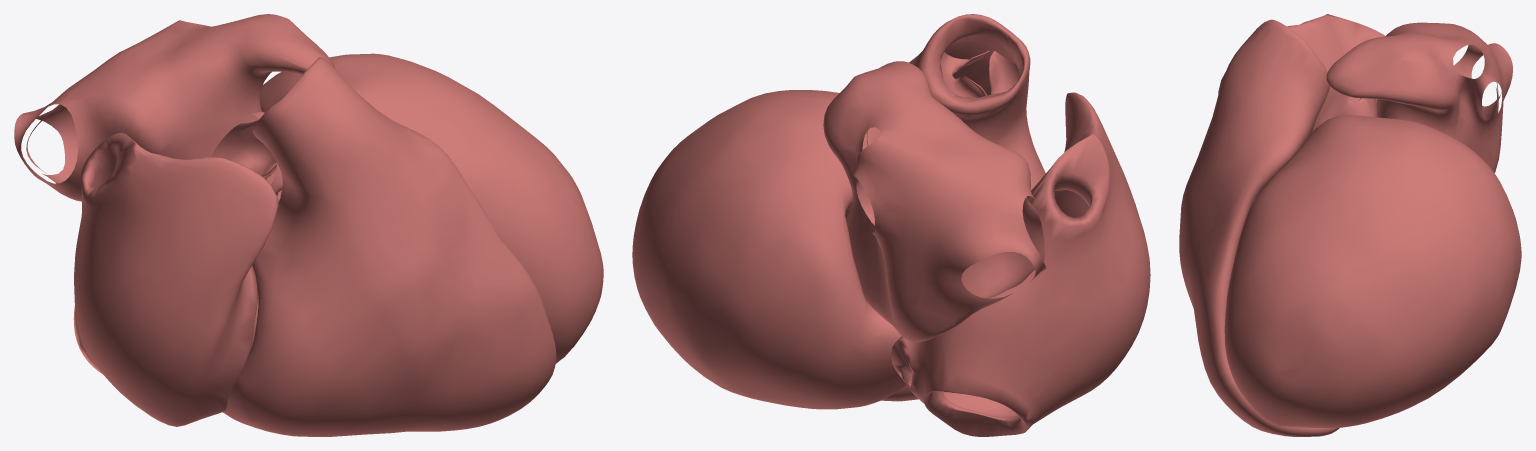
The model's file is heart.glb.
3 views of the same model, side by side, from view 1: azimuth 30°, elevation 25°; view 2: azimuth 150°, elevation 25°; view 3: azimuth 270°, elevation 25° (orthographic). The views are drawn at different scales.
Parts seen in each view (by area): view 1: VH_F_right_ventricle, VH_F_right_cardiac_atrium, VH_F_left_ventricle, VH_F_left_cardiac_atrium, VH_F_aortic_valve; view 2: VH_F_left_ventricle, VH_F_right_cardiac_atrium, VH_F_left_cardiac_atrium, VH_F_right_ventricle, VH_F_pulmonary_valve; view 3: VH_F_left_ventricle, VH_F_right_ventricle, VH_F_left_cardiac_atrium, VH_F_right_cardiac_atrium, VH_F_aortic_valve.
Boxes of the visible parts, box(x1,y1,x2,y2) form: VH_F_right_ventricle: box(223, 57, 556, 436); VH_F_right_cardiac_atrium: box(73, 132, 278, 426); VH_F_left_ventricle: box(259, 53, 603, 363); VH_F_left_cardiac_atrium: box(14, 14, 335, 201); VH_F_aortic_valve: box(211, 111, 282, 202); VH_F_left_ventricle: box(632, 90, 906, 409); VH_F_right_cardiac_atrium: box(890, 92, 1150, 436); VH_F_left_cardiac_atrium: box(823, 61, 1046, 342); VH_F_right_ventricle: box(881, 14, 1045, 401); VH_F_pulmonary_valve: box(940, 50, 1018, 97); VH_F_left_ventricle: box(1224, 115, 1521, 427); VH_F_right_ventricle: box(1179, 19, 1339, 436); VH_F_left_cardiac_atrium: box(1326, 22, 1512, 172); VH_F_right_cardiac_atrium: box(1218, 14, 1385, 102); VH_F_aortic_valve: box(1312, 86, 1377, 132).
Bounding box in the file's own units: 0.1425 × 0.11 × 0.1015.
